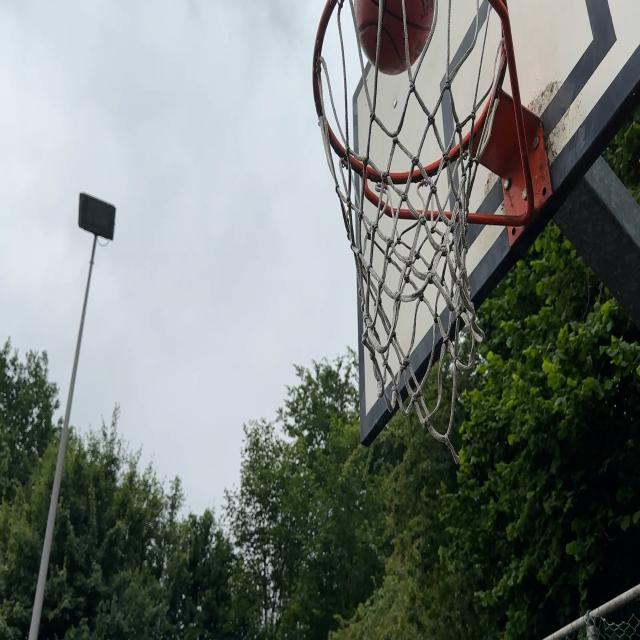Basketball: (358, 0, 435, 71)
